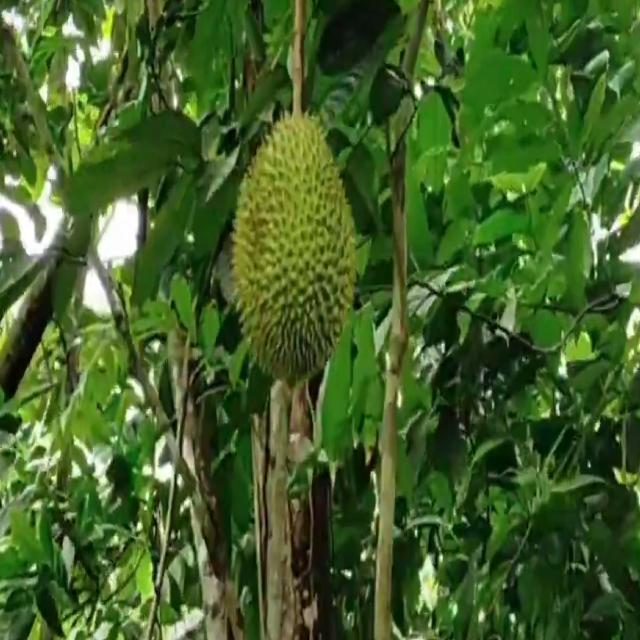immature: (229, 113, 358, 382)
